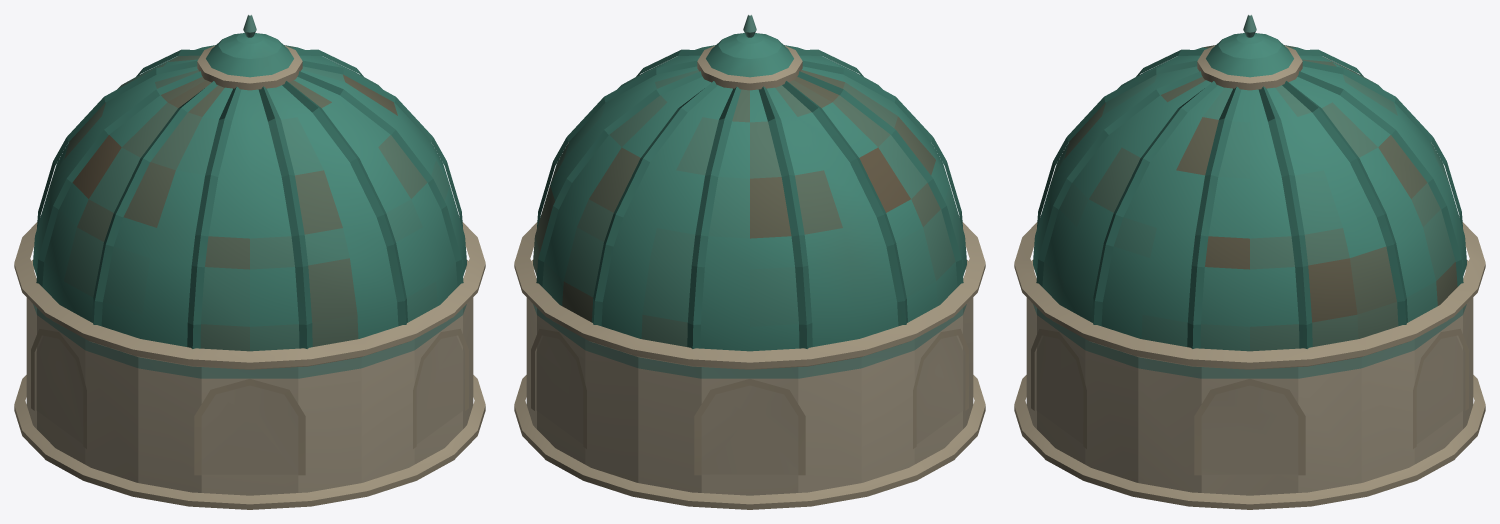
File: dome.closed_12.copper.glb
3 views of the same model, side by side, from view 1: azimuth 30°, elevation 25°; view 2: azimuth 150°, elevation 25°; view 3: azimuth 270°, elevation 25° (orthographic).
Visible parts, largest first — view 1: dome_closed_12_copper; view 2: dome_closed_12_copper; view 3: dome_closed_12_copper.
Boxes of the visible parts, left/top/right/bottom form: dome_closed_12_copper: left=14, top=15, right=485, bottom=509; dome_closed_12_copper: left=514, top=15, right=985, bottom=509; dome_closed_12_copper: left=1014, top=15, right=1485, bottom=509.
Size of what is drawn, in the model's own units: 7.6 by 7.03 by 7.6.
